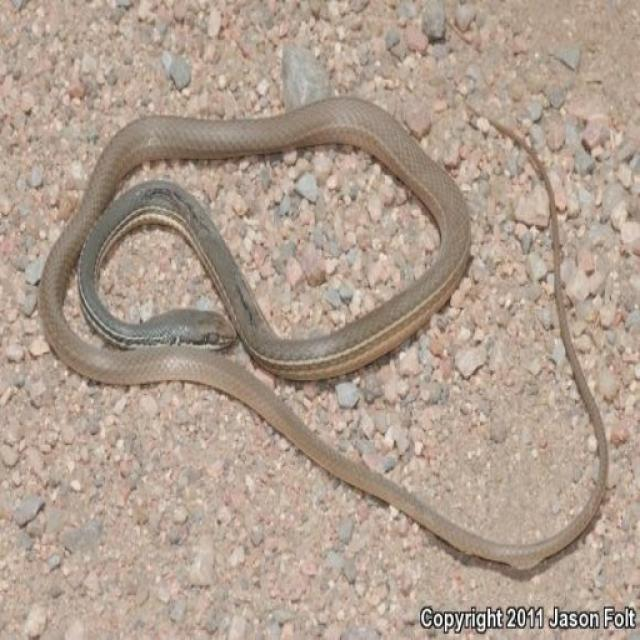snake: (34, 82, 613, 593)
